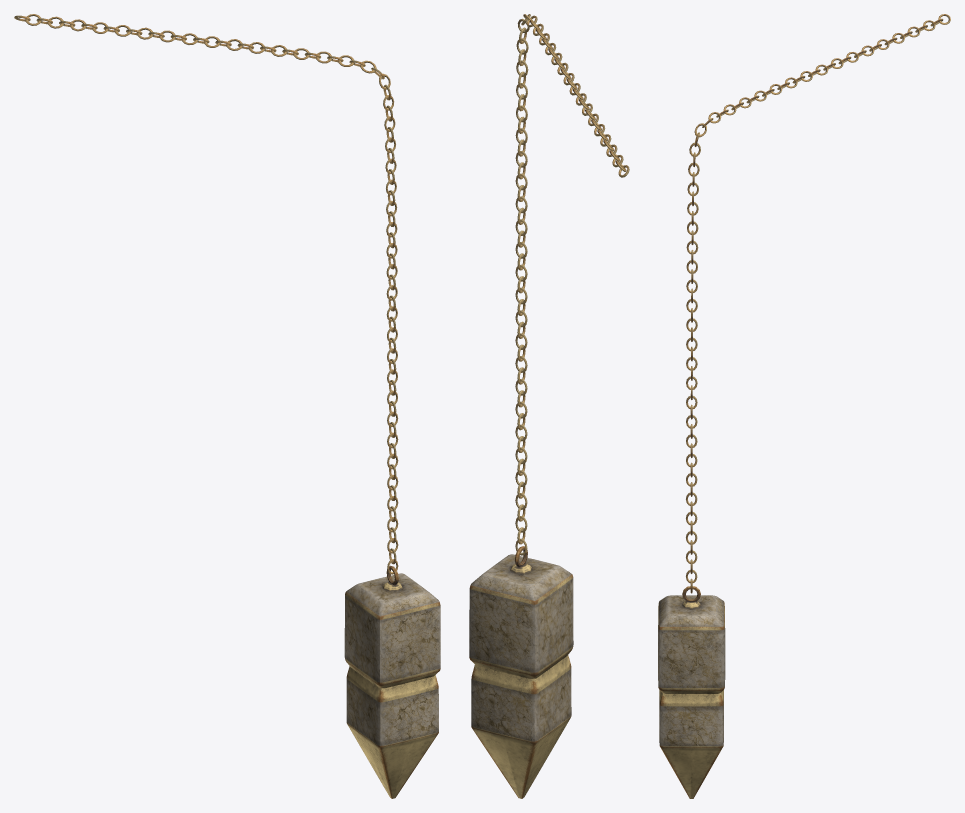
The model's file is m_temple_candelaber_weightpendulum.fbx.
3 views of the same model, side by side, from view 1: azimuth 30°, elevation 25°; view 2: azimuth 150°, elevation 25°; view 3: azimuth 270°, elevation 25° (orthographic). The views are drawn at different scales.
Visible parts, largest first — view 1: candelaber_chained_weights_lo, candelaber_chained_chains_lo; view 2: candelaber_chained_weights_lo, candelaber_chained_chains_lo; view 3: candelaber_chained_weights_lo, candelaber_chained_chains_lo.
Part boxes in pixels (bbox=[...]): candelaber_chained_weights_lo: bbox=[344, 565, 440, 798]; candelaber_chained_chains_lo: bbox=[14, 14, 398, 574]; candelaber_chained_weights_lo: bbox=[469, 546, 573, 798]; candelaber_chained_chains_lo: bbox=[515, 14, 629, 555]; candelaber_chained_weights_lo: bbox=[658, 586, 725, 798]; candelaber_chained_chains_lo: bbox=[686, 14, 950, 593].
Size of what is drawn, in the model's own units: 845 by 2210 by 864.
